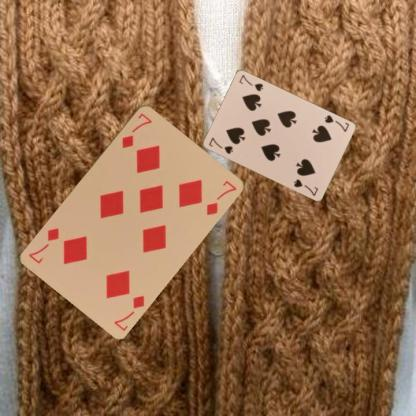7d: (111, 292, 146, 332), (119, 110, 153, 149)
7s: (321, 112, 350, 134), (206, 134, 234, 156)
